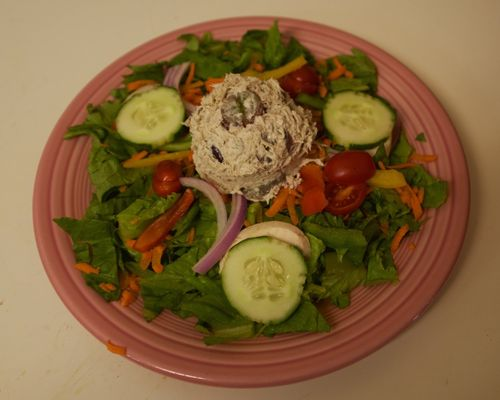sushi: (56, 0, 471, 385)
